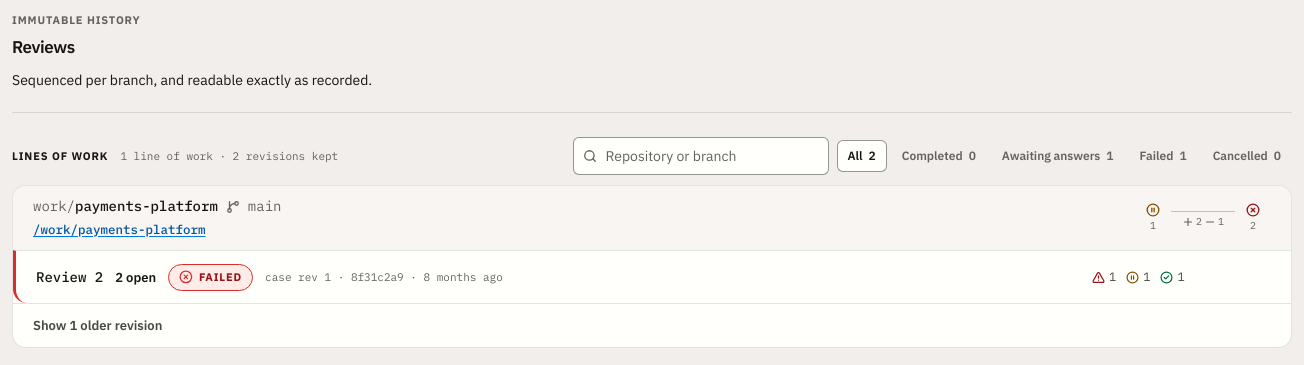
Scenario: what is left to decide › does not promote a superseded revision when the filter hides the newest
Expected: the text "2 open" is shown, [115,268,156,287]
Click the button "Awaiting answers 1" at (1058, 156), box [991,140,1124,172]
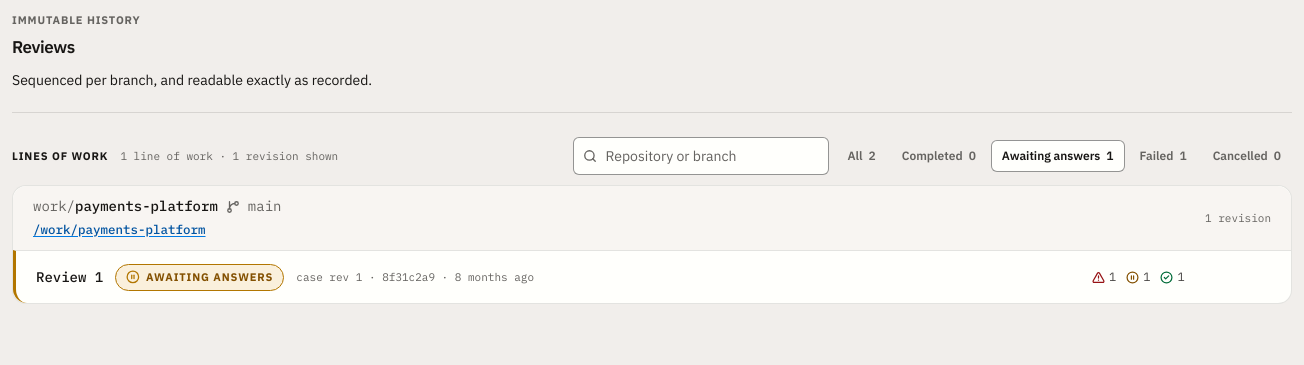
Now the text "Review 1" is shown, box [36,267,103,288]
Now the link "2 open" is gone
